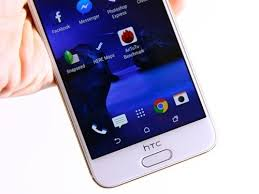htc: (20, 1, 225, 193)
